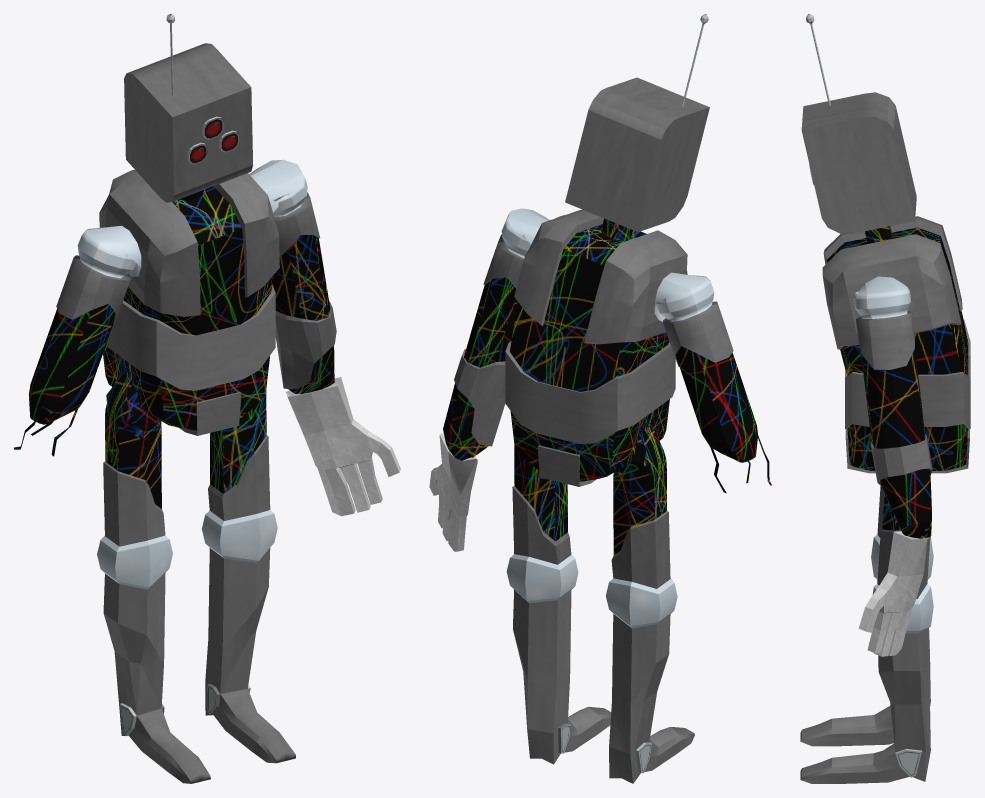
Rendered from RobotIdle7.obj.
3 renders of one model, left to right at view 1: azimuth 30°, elevation 25°; view 2: azimuth 150°, elevation 25°; view 3: azimuth 270°, elevation 25°, orthographic. The views are drawn at different scales.
Parts seen in each view (by area): view 1: Robot; view 2: Robot; view 3: Robot.
Boxes of the visible parts, x1,y1,x2,y2 form: Robot: [14, 14, 400, 783]; Robot: [429, 14, 771, 783]; Robot: [800, 14, 970, 783].
Bounding box in the file's own units: 7.86 × 15.52 × 3.36.
